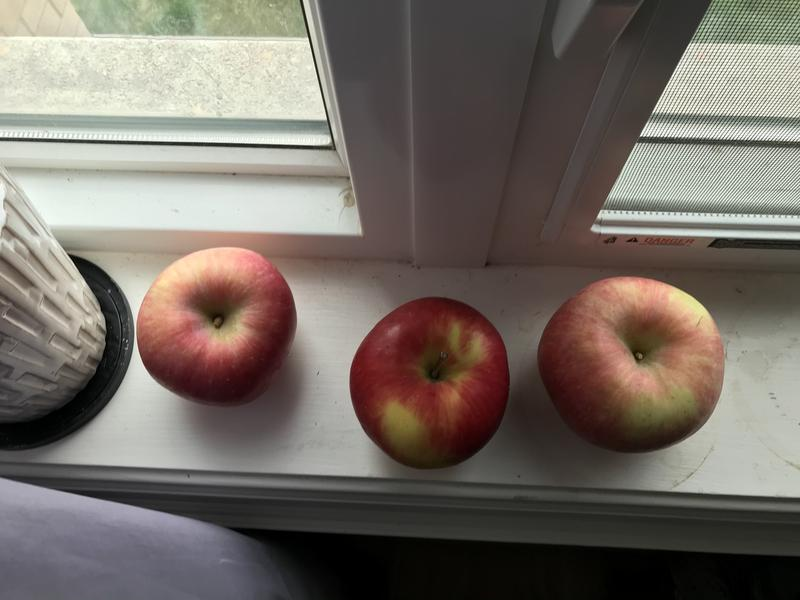red_apple: (532, 265, 735, 465), (342, 287, 521, 473), (124, 241, 306, 416)
